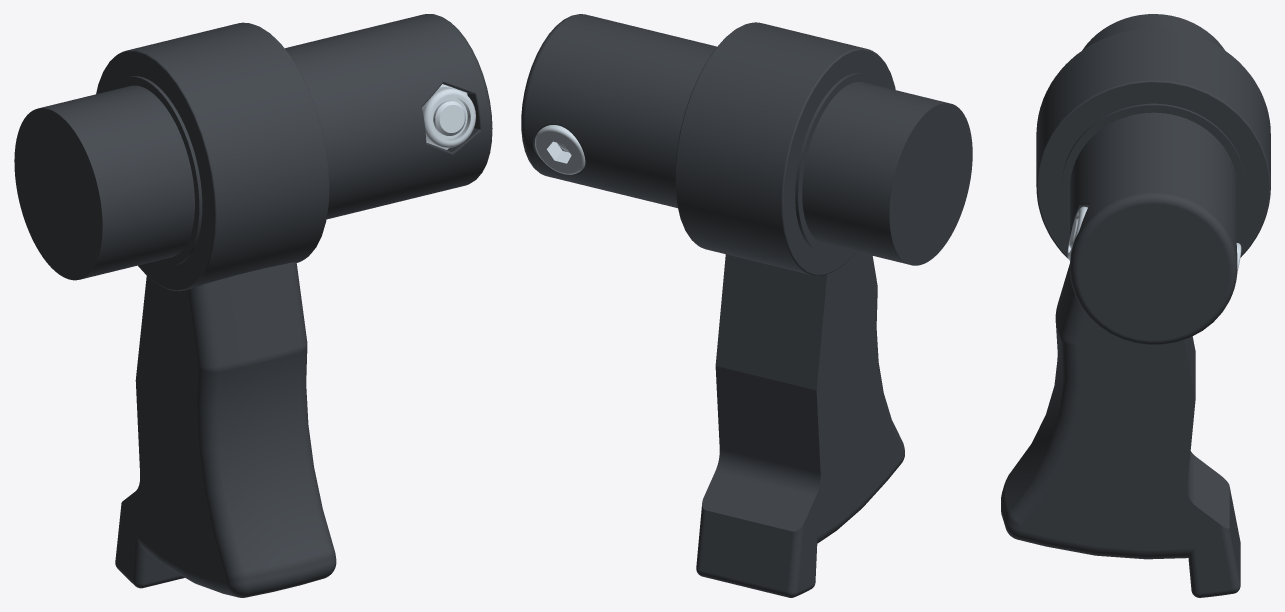
3 views of the same model, side by side, from view 1: azimuth 30°, elevation 25°; view 2: azimuth 150°, elevation 25°; view 3: azimuth 270°, elevation 25° (orthographic). The views are drawn at different scales.
Parts seen in each view (by area): view 1: ID2; view 2: ID2; view 3: ID2.
Part boxes in pixels (box(x1,y1,x2,y2)): ID2: box(14, 14, 492, 597); ID2: box(521, 14, 972, 597); ID2: box(1001, 14, 1270, 597).
Bounding box in the file's own units: 0.0515 × 0.0322 × 0.0687.
